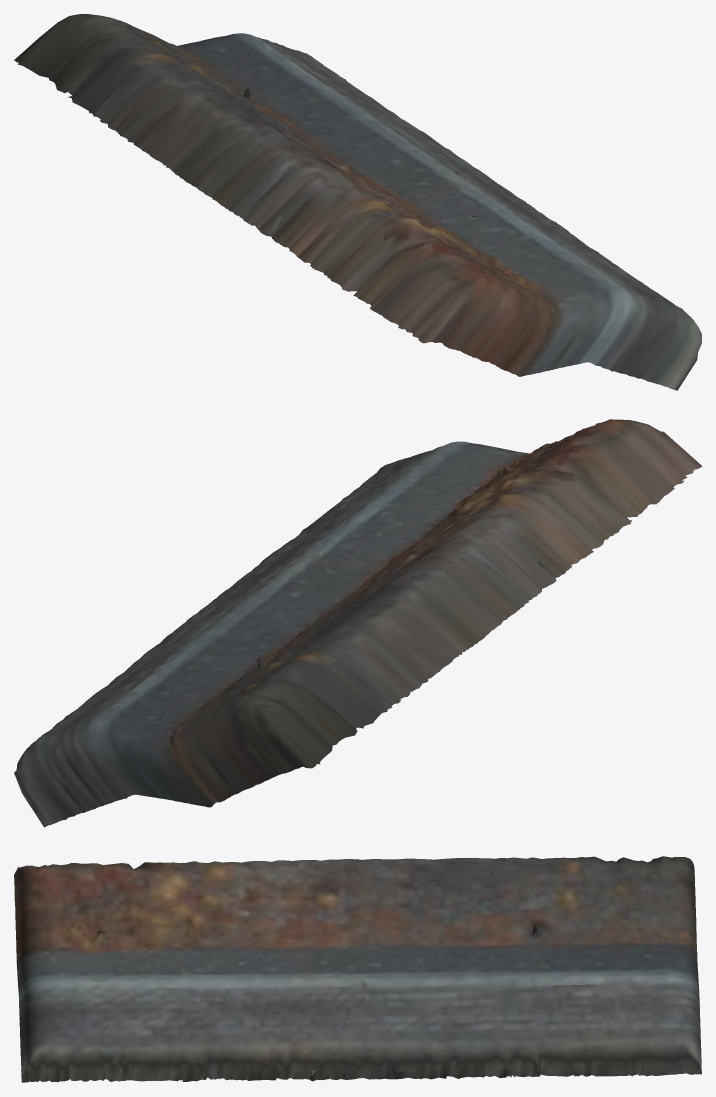
File: run4_p2_c3.glb
3 views of the same model, one above another, from view 1: azimuth 30°, elevation 25°; view 2: azimuth 150°, elevation 25°; view 3: azimuth 270°, elevation 25° (orthographic). The views are drawn at different scales.
Visible parts, largest first — view 1: run4_p2_straight_c3; view 2: run4_p2_straight_c3; view 3: run4_p2_straight_c3.
Boxes of the visible parts, <box> form: run4_p2_straight_c3: <box>14,14,701,390</box>; run4_p2_straight_c3: <box>14,419,701,827</box>; run4_p2_straight_c3: <box>14,856,701,1082</box>.
Size of the model in its own units: 9.15 by 4.43 by 20.26.
Materials: 1 (1 with a texture image).
